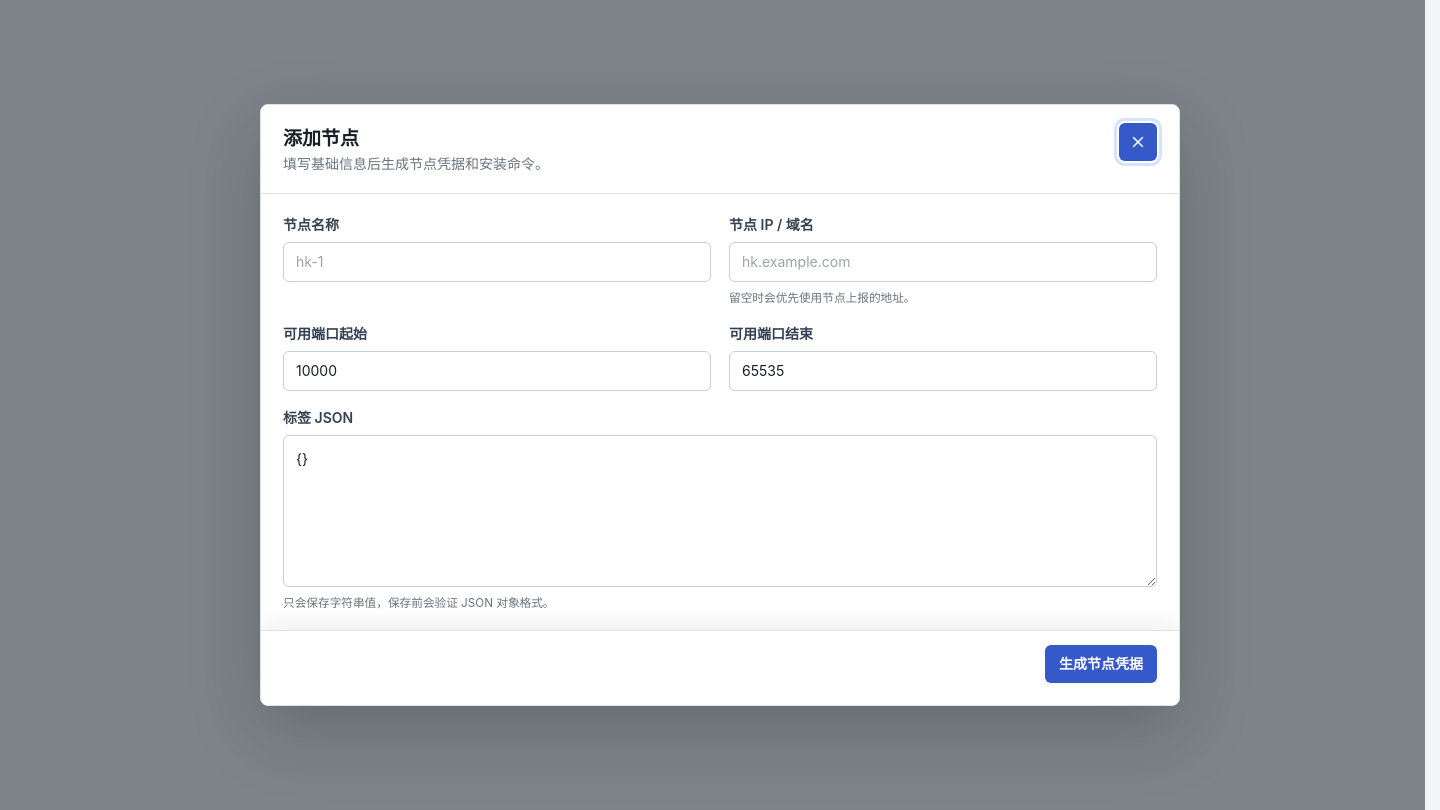
Scenario: node pages › allows node port ranges below the default range
Check: the dialog "添加节点" is shown, box [260,104,1180,706]
Type "edge-80" into the field labelled "节点名称" at (497, 262), box [283,242,711,282]
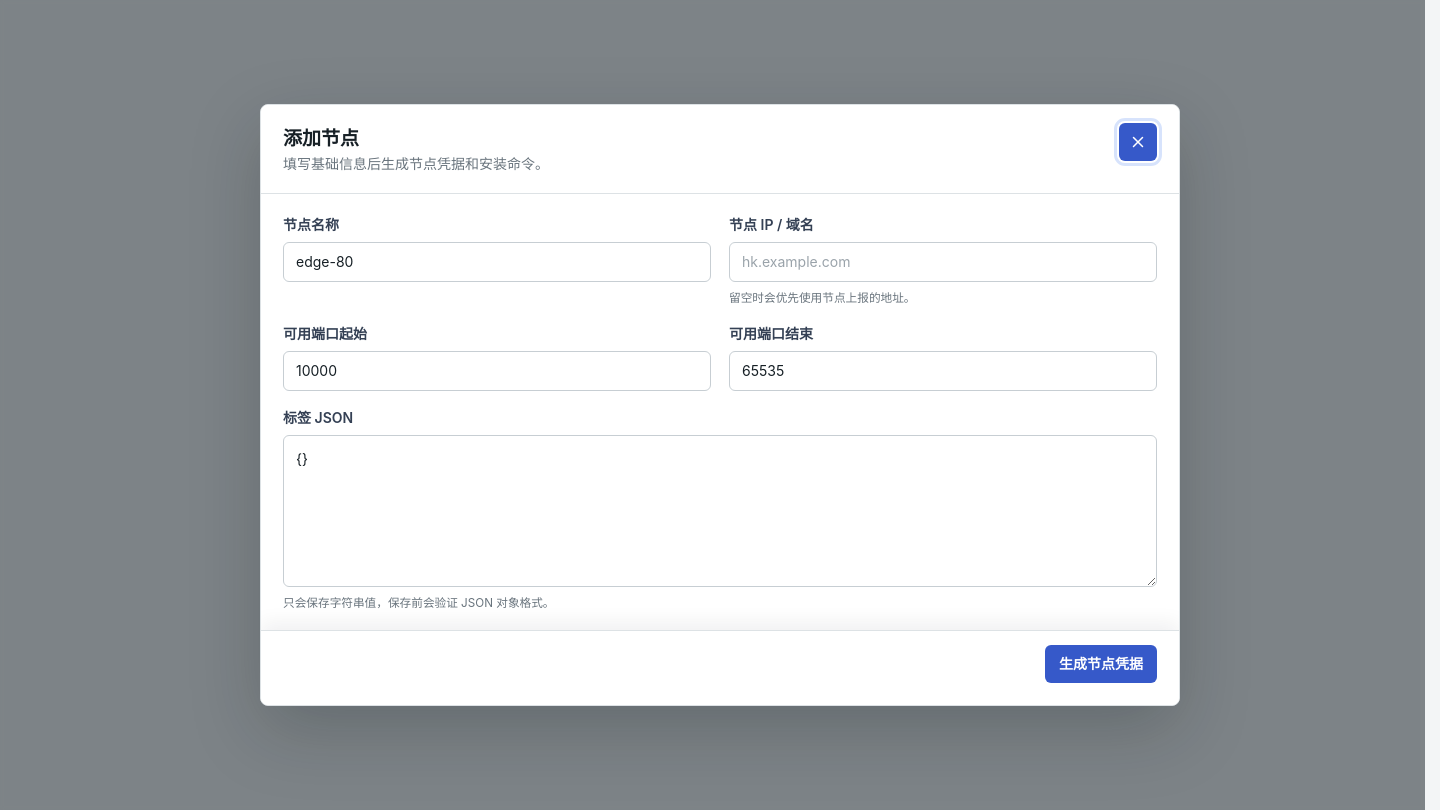
Replace the text in the number field labelled "可用端口起始" with "80" at (497, 371), box [283,351,711,391]
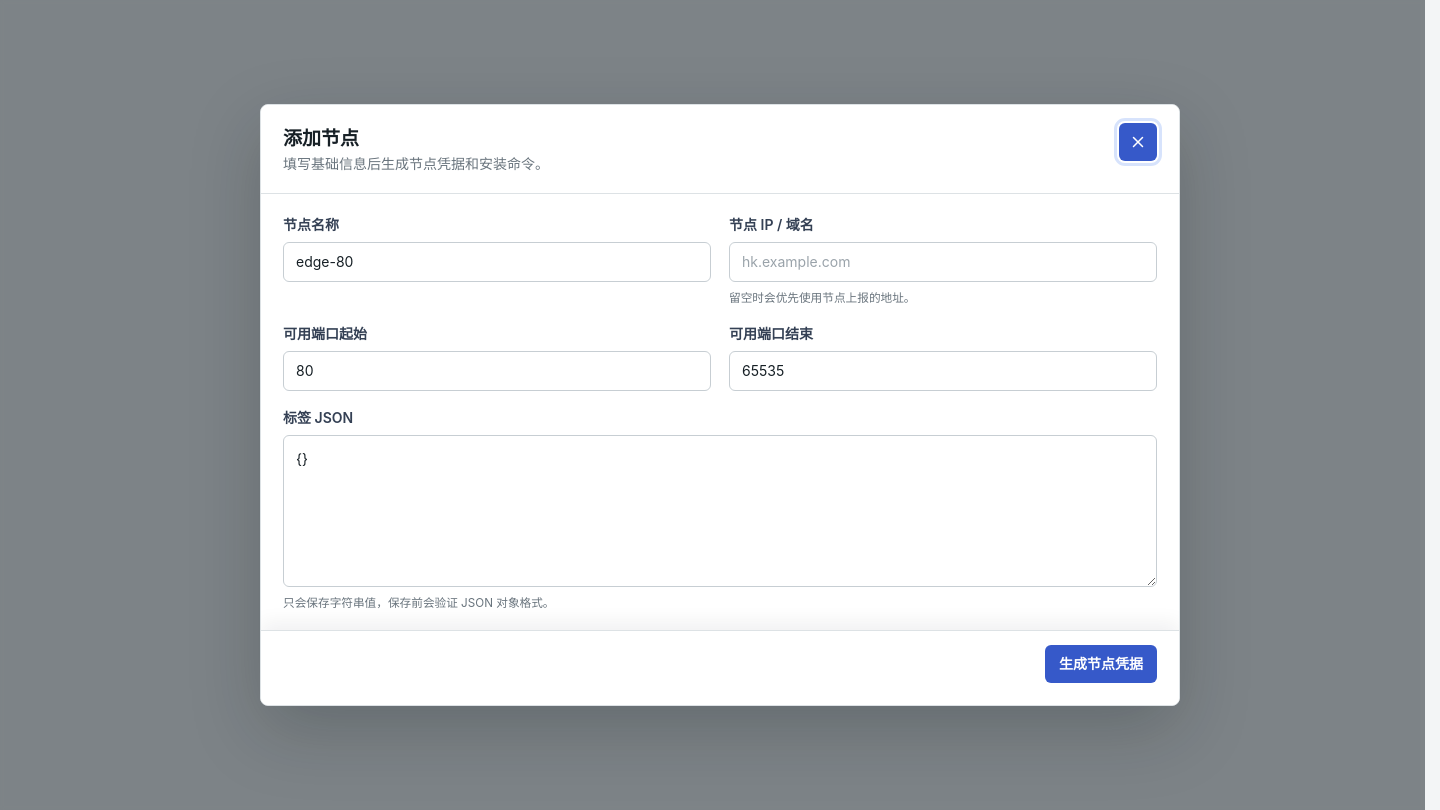
Replace the text in the number field labelled "可用端口结束" with "443" at (943, 371), box [729,351,1157,391]
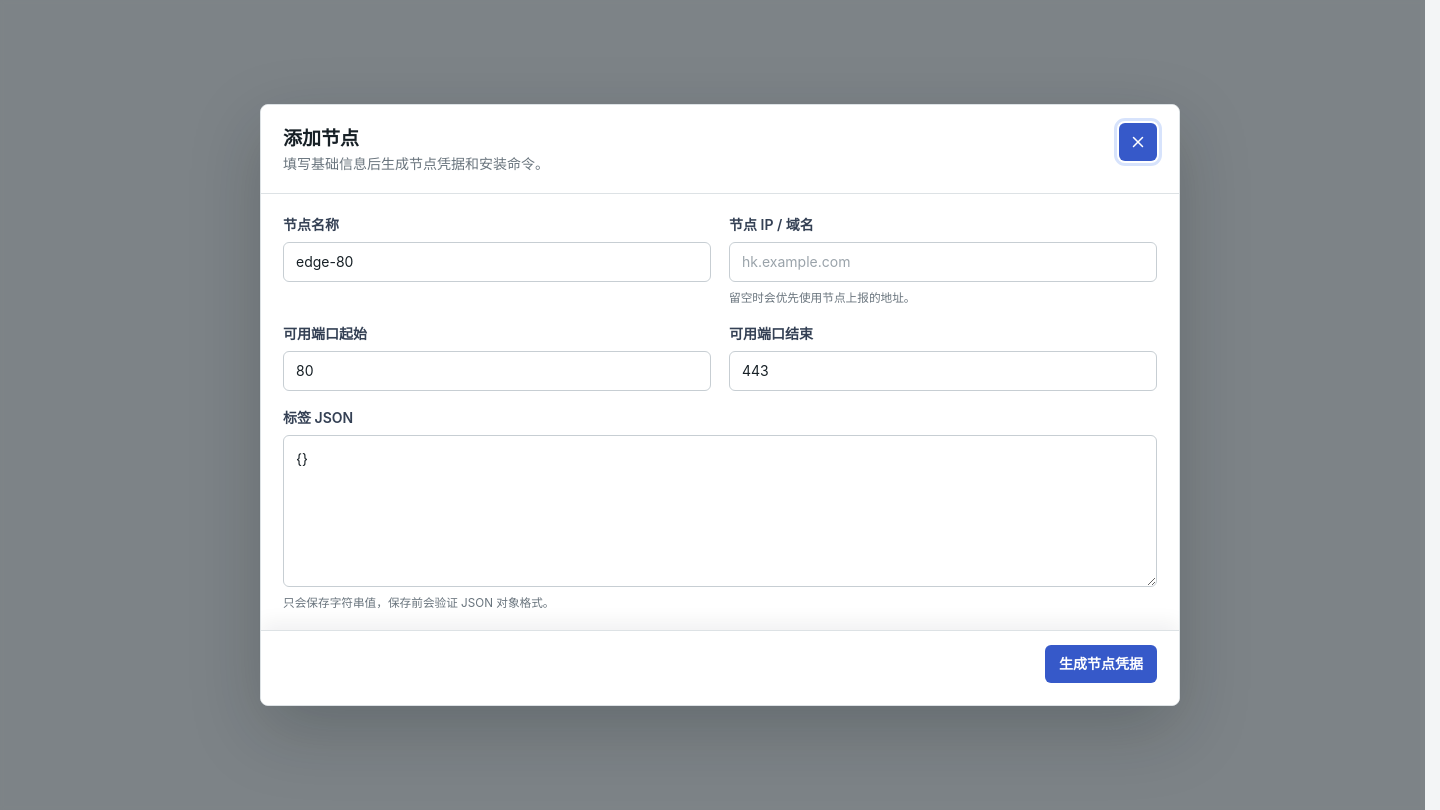
Click the button "生成节点凭据" at (1101, 664), box [1045,645,1157,683]
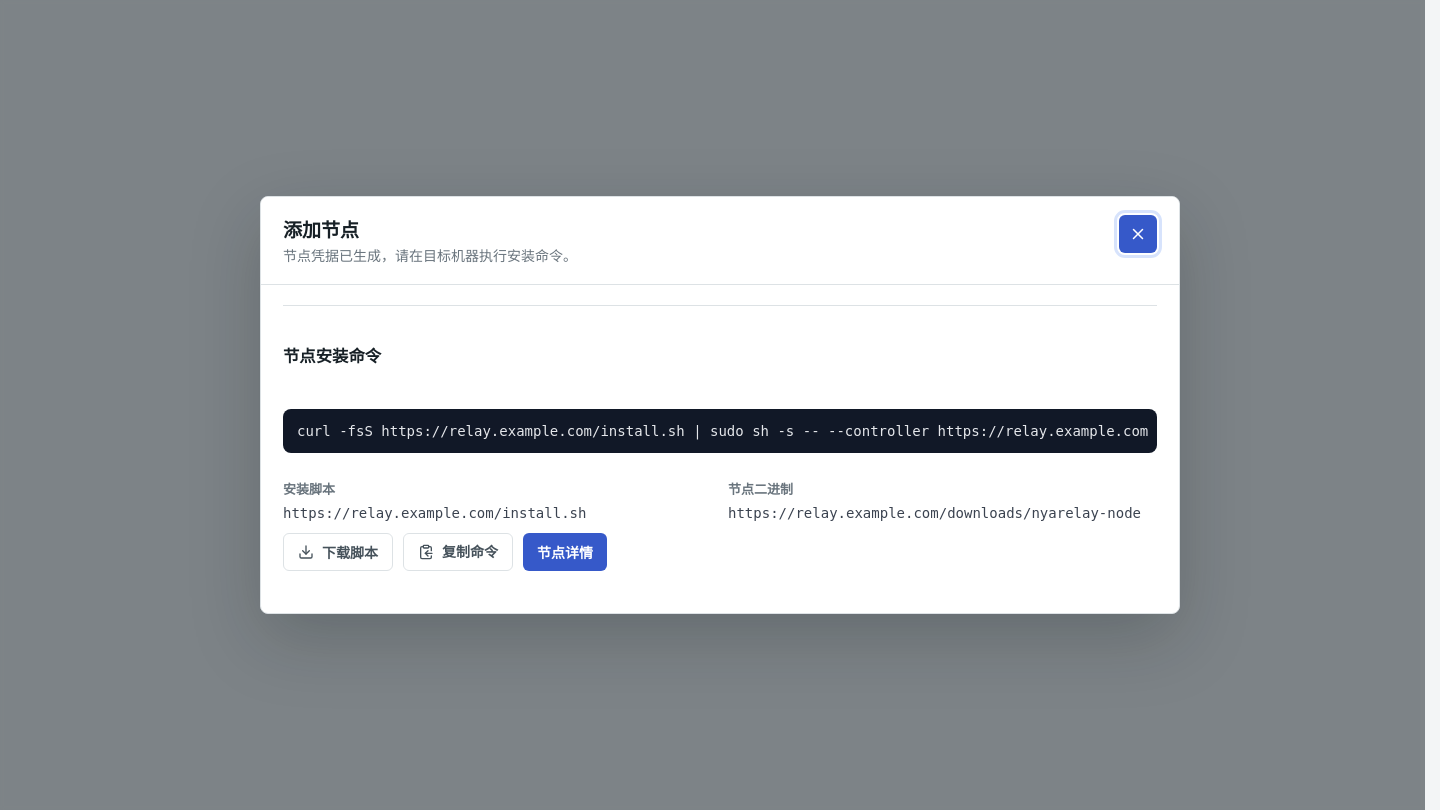
Check: the heading "节点安装命令" is shown, box [283,346,381,366]
